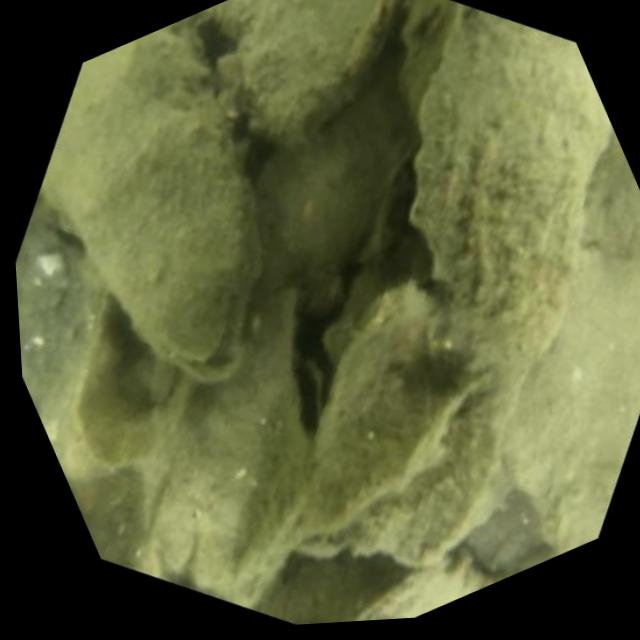Oyster-Closed: (399, 0, 609, 385), (309, 345, 473, 538), (207, 0, 399, 144), (218, 447, 313, 584)
Oyster-Indeterminate: (46, 20, 263, 384), (354, 380, 526, 575), (257, 75, 402, 280), (306, 278, 440, 472), (16, 231, 99, 462), (337, 547, 509, 622)
